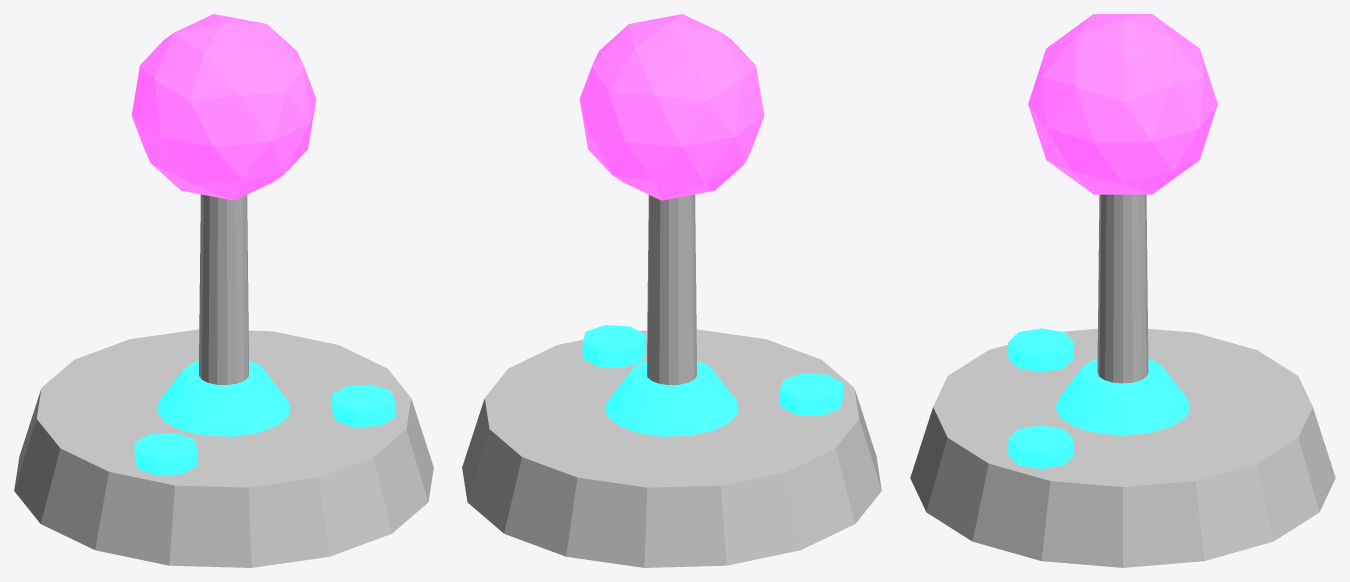
The picture shows the model from 3 angles, left to right: view 1: azimuth 30°, elevation 25°; view 2: azimuth 150°, elevation 25°; view 3: azimuth 270°, elevation 25°; orthographic projection.
Visible parts, largest first — view 1: Neon_GiantJoystick_Showcase; view 2: Neon_GiantJoystick_Showcase; view 3: Neon_GiantJoystick_Showcase.
Part boxes in pixels (box(x1,y1,x2,y2)): Neon_GiantJoystick_Showcase: box(14, 14, 433, 567); Neon_GiantJoystick_Showcase: box(462, 14, 881, 567); Neon_GiantJoystick_Showcase: box(910, 14, 1335, 567).
Bounding box in the file's own units: 1.3 × 1.55 × 1.3.
